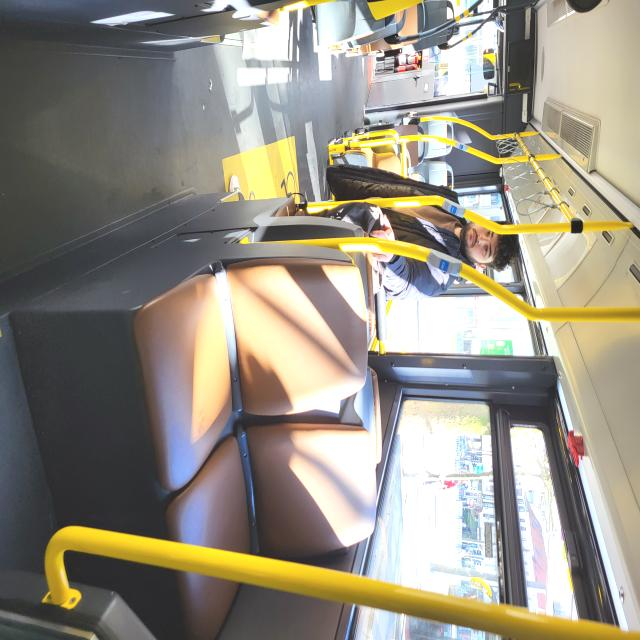asiento-libre: (354, 361, 529, 640), (354, 360, 528, 640), (477, 351, 640, 635), (477, 352, 579, 635), (434, 344, 511, 408), (160, 286, 202, 388), (160, 312, 193, 436), (266, 318, 294, 407), (248, 250, 280, 308), (278, 248, 301, 309), (160, 479, 180, 549), (252, 287, 286, 325), (281, 249, 303, 307)
